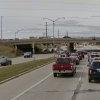Car: (45, 50, 83, 79)
